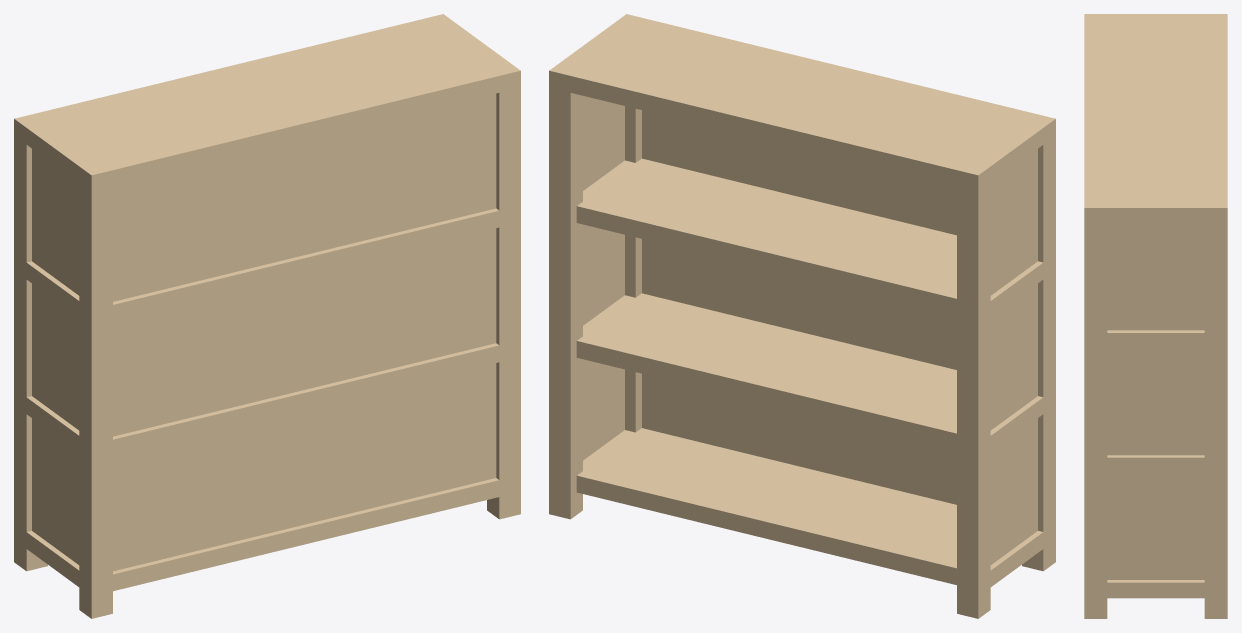
The model's file is bookcaseClosedWide.glb.
3 views of the same model, side by side, from view 1: azimuth 30°, elevation 25°; view 2: azimuth 150°, elevation 25°; view 3: azimuth 270°, elevation 25° (orthographic). The views are drawn at different scales.
Parts seen in each view (by area): view 1: bookcaseClosedWide; view 2: bookcaseClosedWide; view 3: bookcaseClosedWide.
Part boxes in pixels (x1,y1,x2,y2): bookcaseClosedWide: [14, 14, 520, 618]; bookcaseClosedWide: [549, 14, 1055, 618]; bookcaseClosedWide: [1084, 14, 1227, 618].
Bounding box in the file's own units: 8 × 7.9 × 2.5.
